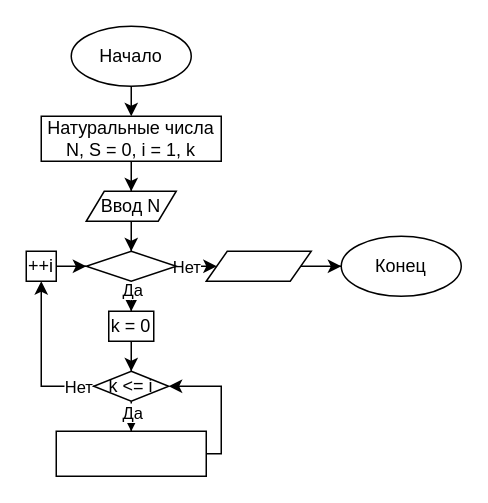
Image size: 488x503. Some labels were removed from this diagram. Here are the shapes that lost their labels. From the top down, the centre of each, then its label:
At pixel 130 265: "i < N".
At pixel 258 265: "Вывод S".
At pixel 130 453: "S += (i + k)*(i + k) ++k".
